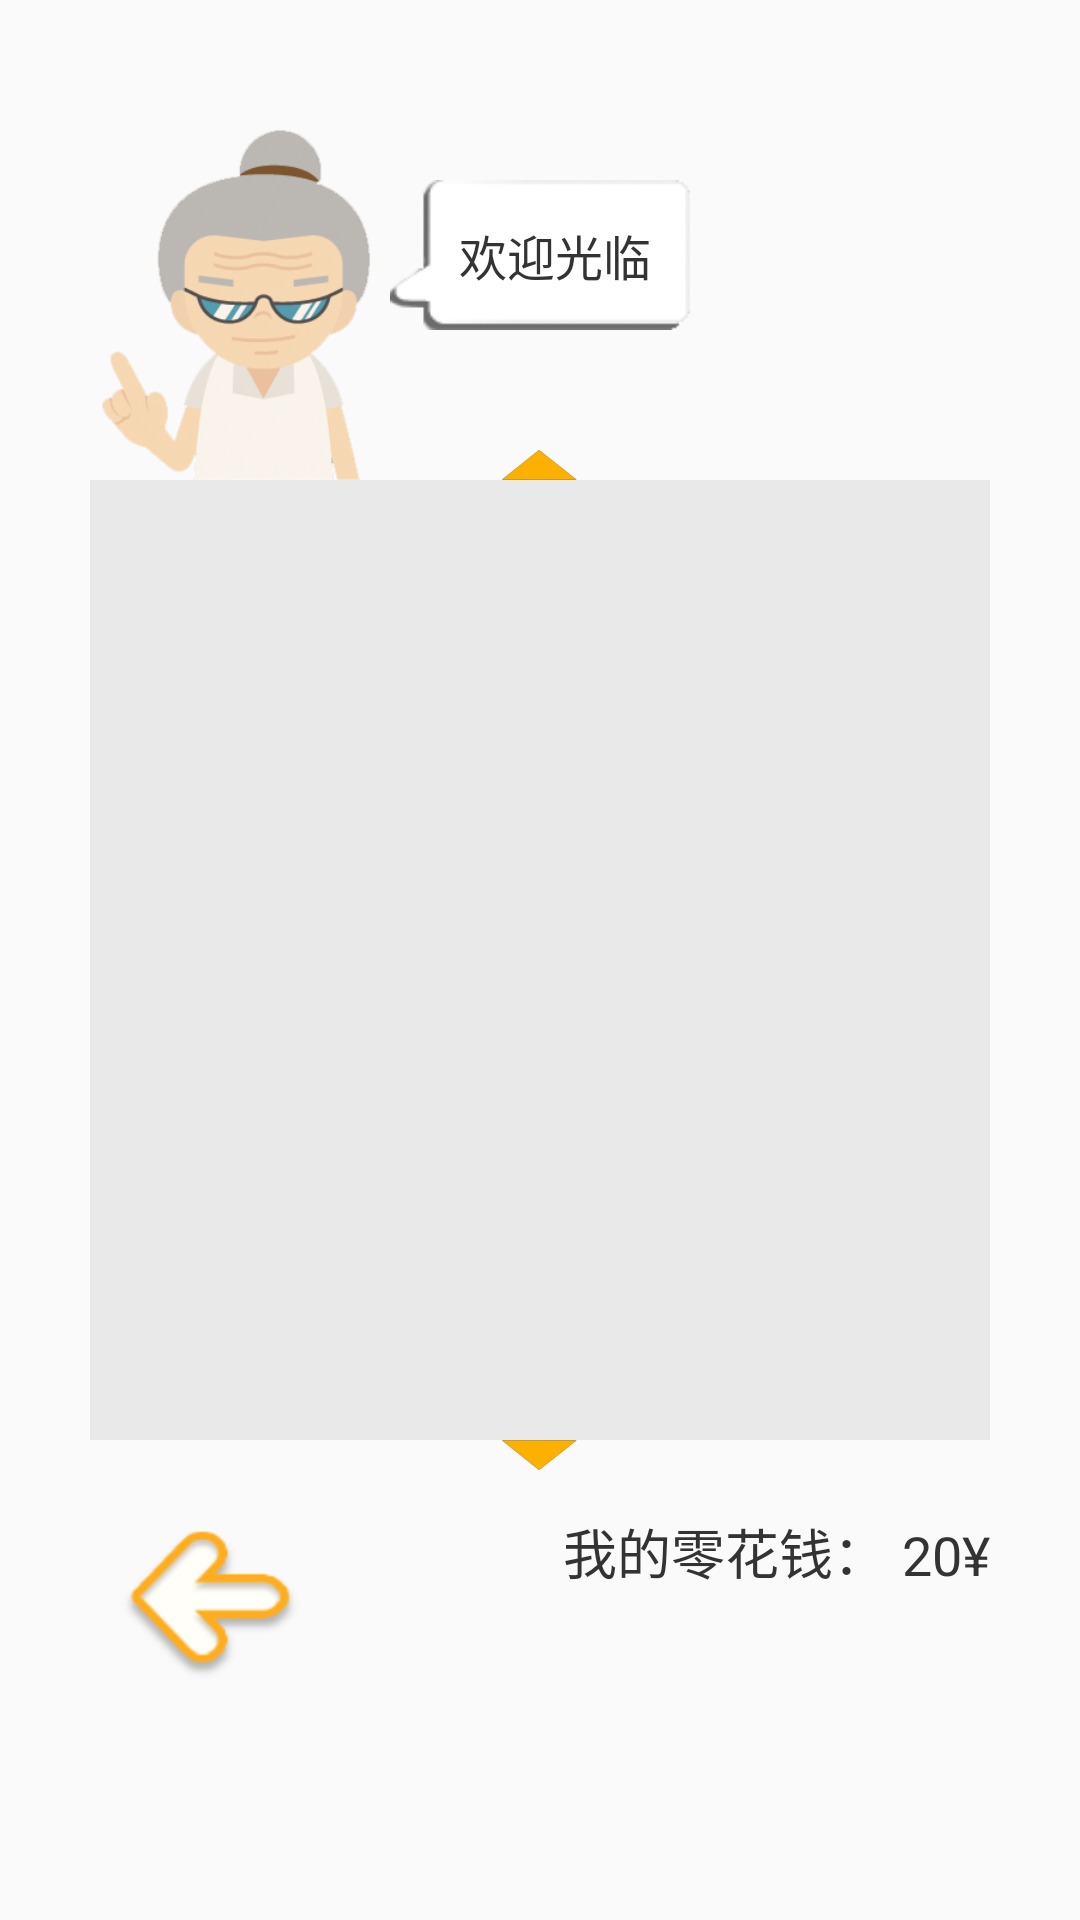

Named icons in this screenshot (1080px x 1920px) and their bounding boxes, (x1, y1, x2, y2):
chara storekeeper: (102, 130, 370, 480)
triangle pointer bottom: (502, 1440, 577, 1470)
triangle pointer top: (502, 450, 577, 480)
